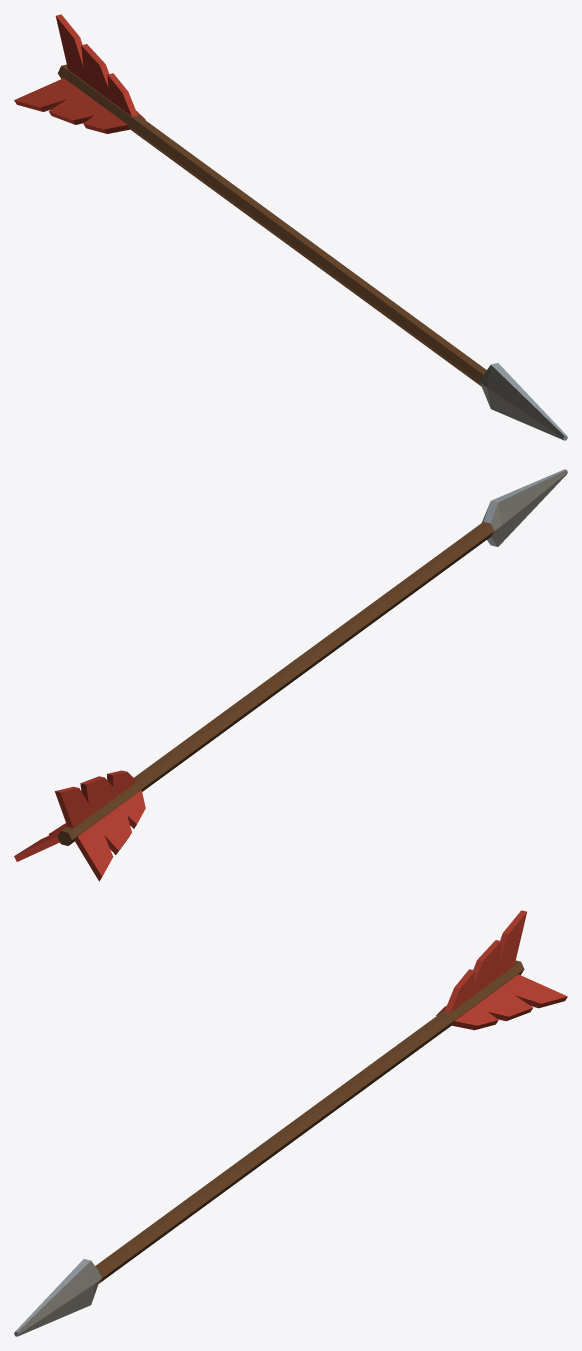
The model's file is cc0-arrow-lod0.glb.
3 renders of one model, top to bottom at view 1: azimuth 30°, elevation 25°; view 2: azimuth 150°, elevation 25°; view 3: azimuth 330°, elevation 25°, orthographic.
Visible parts, largest first — view 1: part_0; view 2: part_0; view 3: part_0.
Part boxes in pixels (x1,y1,x2,y2): part_0: [14, 14, 567, 440]; part_0: [14, 469, 567, 881]; part_0: [14, 910, 567, 1336].
Size of the model in its own units: 0.2741 by 0.2383 by 2.73.
